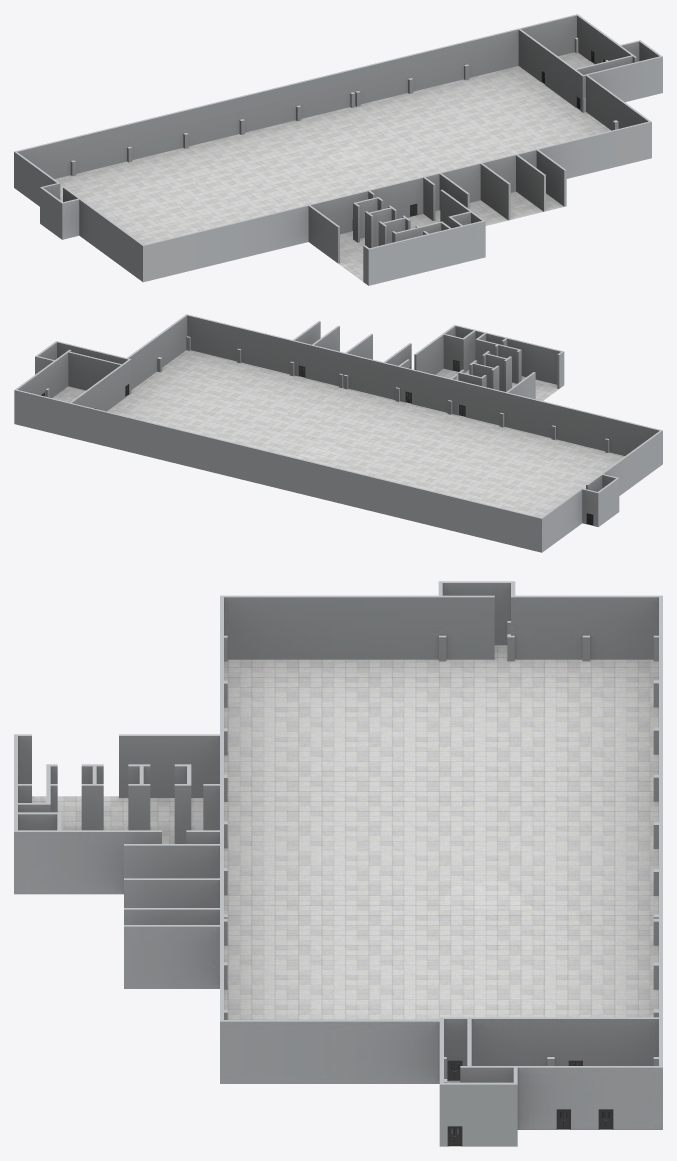
File: LXWZ_2-1F.glb
3 views of the same model, one above another, from view 1: azimuth 30°, elevation 25°; view 2: azimuth 150°, elevation 25°; view 3: azimuth 270°, elevation 25° (orthographic). The views are drawn at different scales.
Bounding box in the file's own units: 98.02 × 5.65 × 53.42.
Materials: 1 (1 with a texture image).
